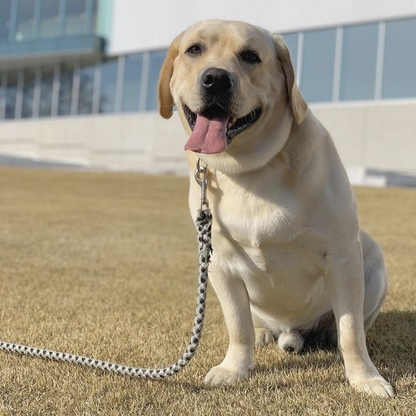labrado: (153, 16, 399, 403)
